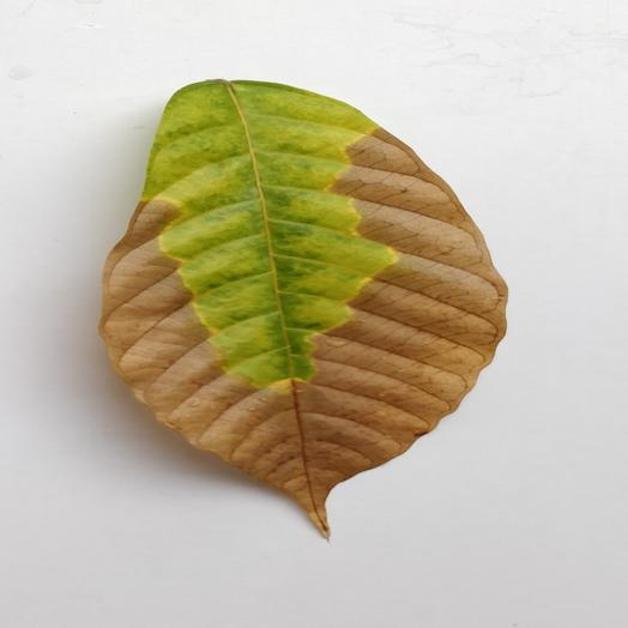Potassium: (101, 80, 504, 536)
